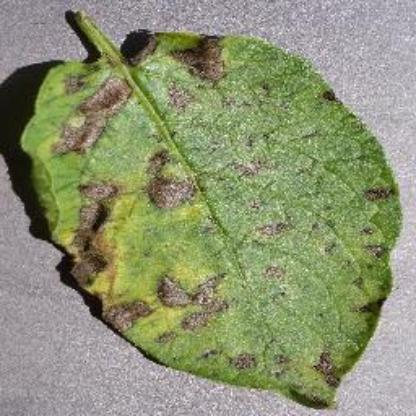Early-Blight: (18, 10, 400, 408)
